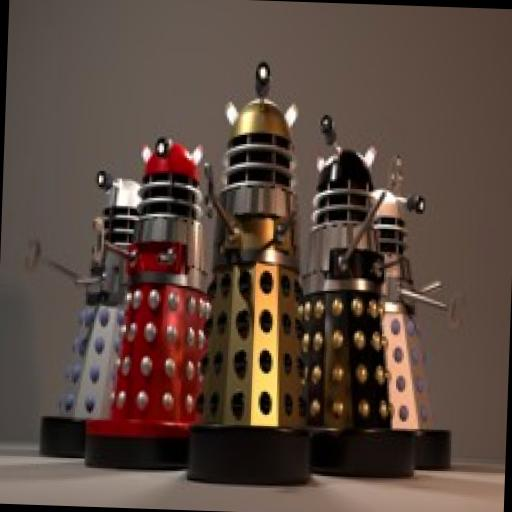dalek: (190, 56, 330, 492), (288, 115, 394, 479), (354, 152, 474, 471), (20, 165, 140, 452)
